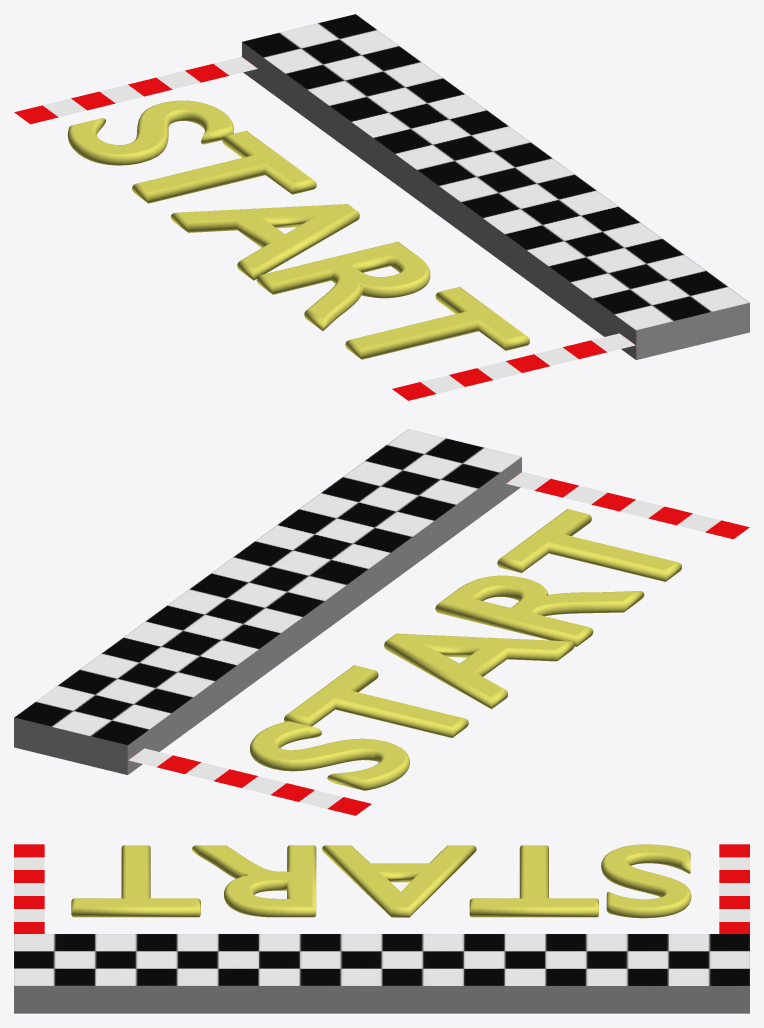
File: start_line_mini.dae
3 renders of one model, top to bottom at view 1: azimuth 30°, elevation 25°; view 2: azimuth 150°, elevation 25°; view 3: azimuth 270°, elevation 25°, orthographic. The views are drawn at different scales.
Visible parts, largest first — view 1: Cube, start, Plane, Plane.001; view 2: Cube, start, Plane.001, Plane; view 3: Cube, start, Plane.001, Plane.
Boxes of the visible parts, x1,y1,x2,y2 form: Cube: [242, 14, 749, 359]; start: [67, 100, 529, 359]; Plane: [392, 333, 635, 400]; Plane.001: [14, 56, 257, 124]; Cube: [14, 429, 521, 774]; start: [250, 509, 681, 790]; Plane.001: [128, 748, 371, 815]; Plane: [506, 471, 749, 539]; Cube: [14, 934, 749, 1013]; start: [71, 844, 691, 918]; Plane.001: [719, 844, 749, 933]; Plane: [14, 844, 44, 933].
Size of the model in its own units: 0.4004 by 0.8001 by 0.0333.
Materials: 6 (1 with a texture image).
